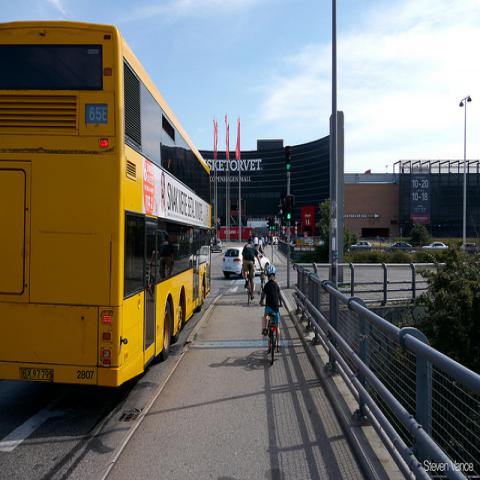bus: (2, 24, 212, 389)
car: (222, 246, 271, 278), (348, 240, 372, 252), (384, 242, 412, 252), (421, 241, 449, 250), (210, 239, 222, 253)
